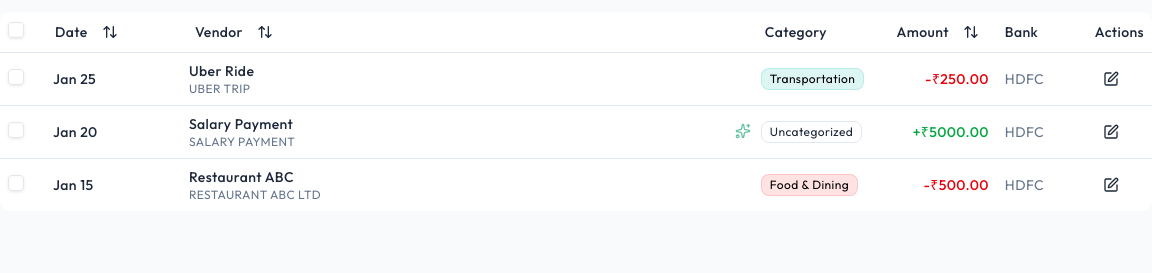
Test: TransactionList › selection › should deselect all transactions
// Select all first
Click the checkbox named "Select all transactions": point(16, 30) [8,22,24,38]
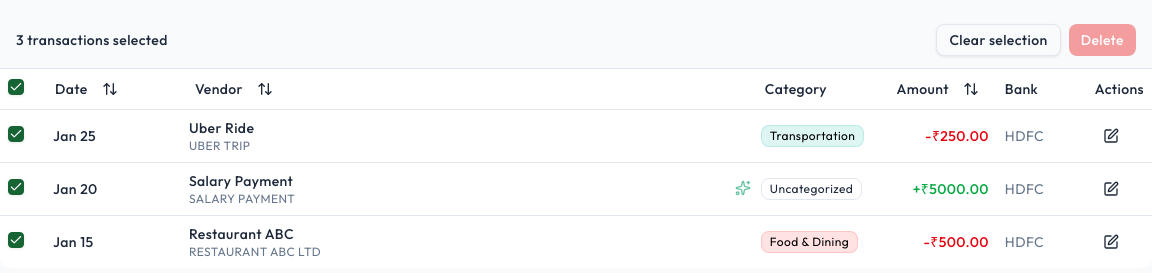
Check: the text "3 transactions selected" is shown, box [16,30,168,50]
// Then deselect all
Click the checkbox named "Select all transactions": point(16, 87) [8,79,24,95]
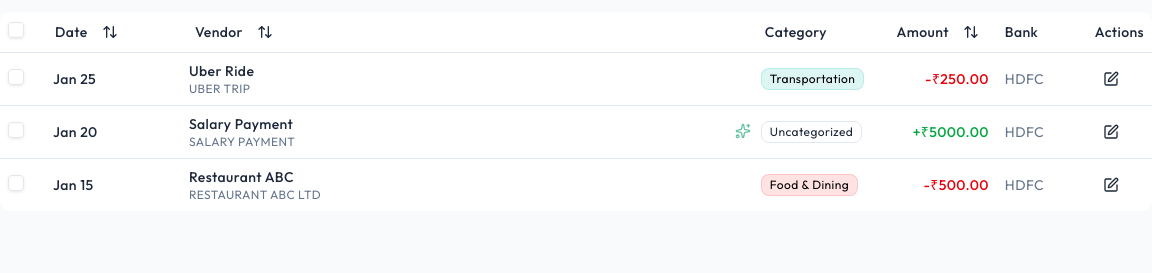
Check: the text "transactions selected" is gone
